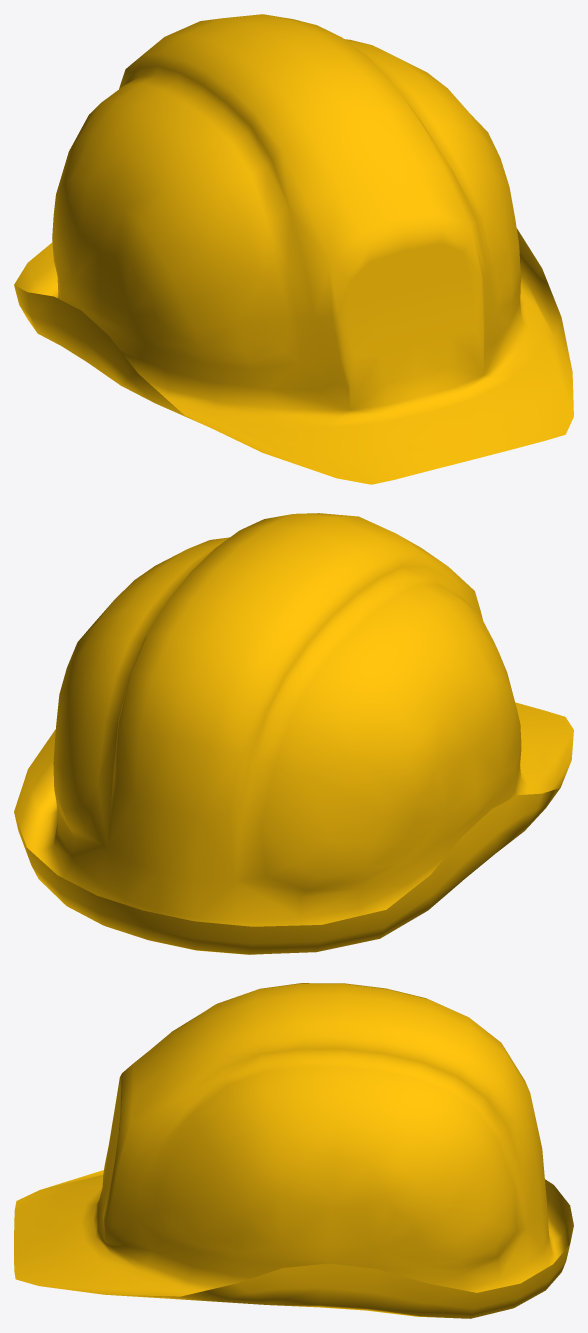
Rendered from helmet_draco.glb.
The picture shows the model from 3 angles, top to bottom: view 1: azimuth 30°, elevation 25°; view 2: azimuth 150°, elevation 25°; view 3: azimuth 270°, elevation 25°; orthographic projection. The views are drawn at different scales.
Size of the model in its own units: 0.22 by 0.1548 by 0.3006.
